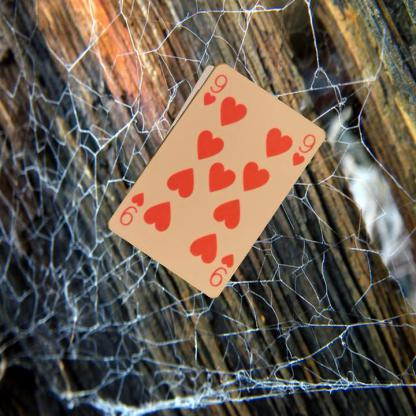9h: (206, 250, 235, 288), (200, 71, 229, 107)
